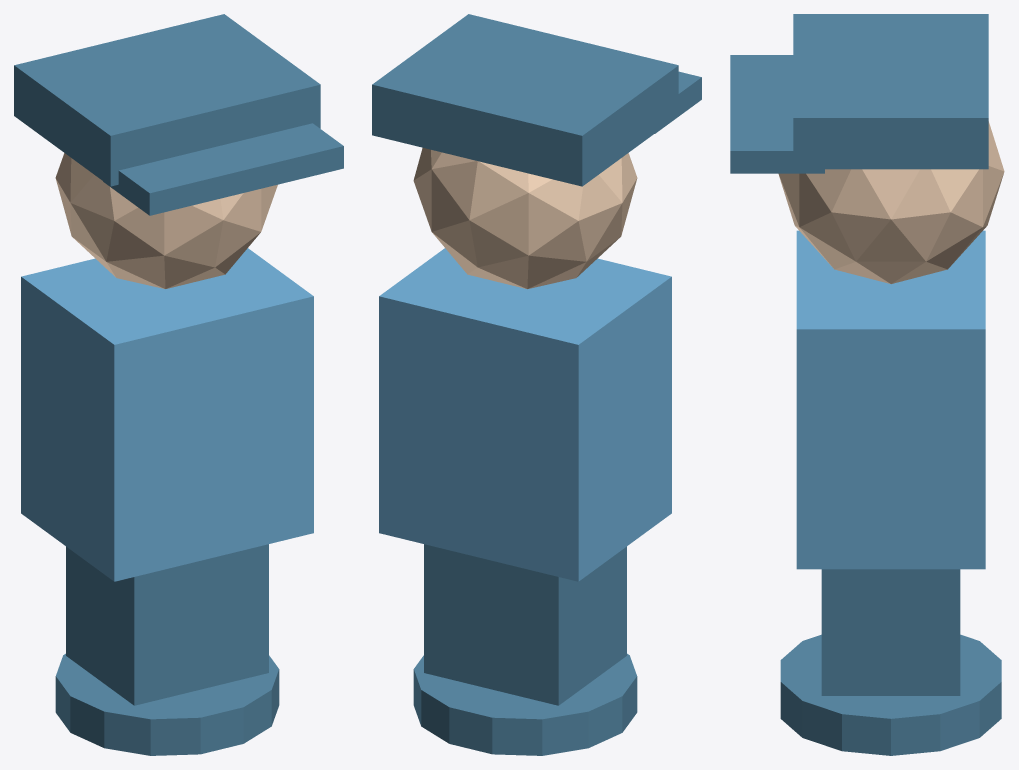
The model's file is Character_Guard_PROXY.glb.
3 views of the same model, side by side, from view 1: azimuth 30°, elevation 25°; view 2: azimuth 150°, elevation 25°; view 3: azimuth 270°, elevation 25° (orthographic).
Visible parts, largest first — view 1: torso_2, cap_4, pants_1, head_3, feet_0, capbrim_5; view 2: torso_2, cap_4, pants_1, head_3, feet_0, capbrim_5; view 3: torso_2, cap_4, head_3, pants_1, feet_0, capbrim_5.
Part boxes in pixels (x1=…): torso_2: x1=21, y1=248, x2=313, y2=581; cap_4: x1=14, y1=14, x2=320, y2=186; pants_1: x1=66, y1=544, x2=268, y2=705; head_3: x1=55, y1=153, x2=277, y2=288; feet_0: x1=55, y1=653, x2=279, y2=755; capbrim_5: x1=103, y1=123, x2=343, y2=215; torso_2: x1=379, y1=248, x2=671, y2=581; cap_4: x1=372, y1=14, x2=678, y2=186; pants_1: x1=424, y1=544, x2=626, y2=705; head_3: x1=413, y1=148, x2=637, y2=289; feet_0: x1=413, y1=653, x2=637, y2=755; capbrim_5: x1=655, y1=71, x2=701, y2=133; torso_2: x1=796, y1=230, x2=985, y2=569; cap_4: x1=793, y1=14, x2=988, y2=169; head_3: x1=778, y1=121, x2=1004, y2=283; pants_1: x1=821, y1=569, x2=960, y2=695; feet_0: x1=780, y1=634, x2=1001, y2=755; capbrim_5: x1=730, y1=55, x2=824, y2=173.
Size of the model in its own units: 0.39 by 1.12 by 0.435.
